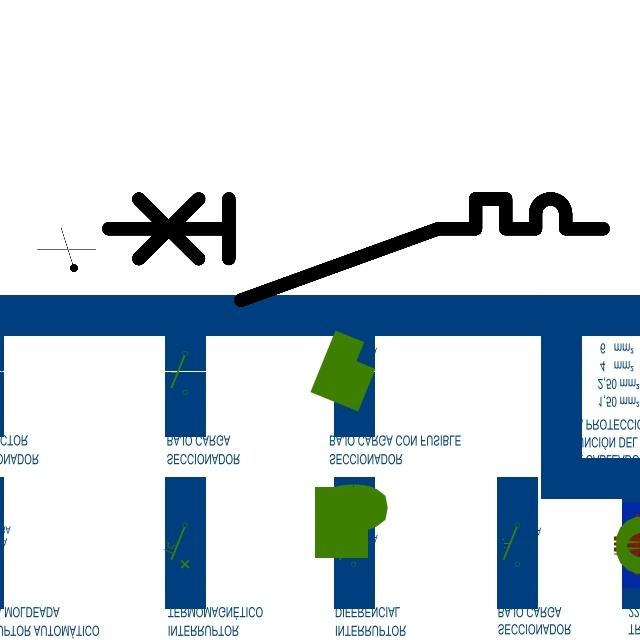interruptor_termomagnetico: (95, 186, 615, 313)
